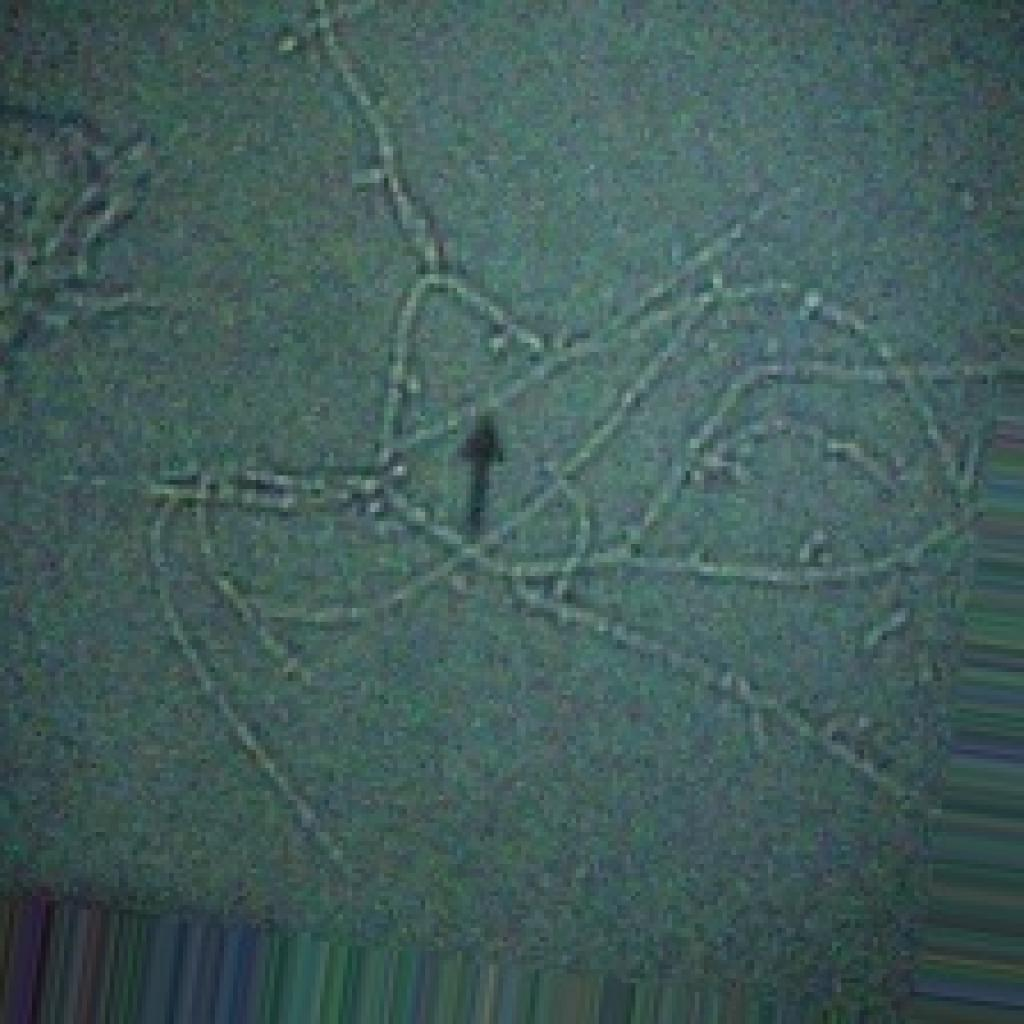Yeast: (75, 54, 1024, 1024)
